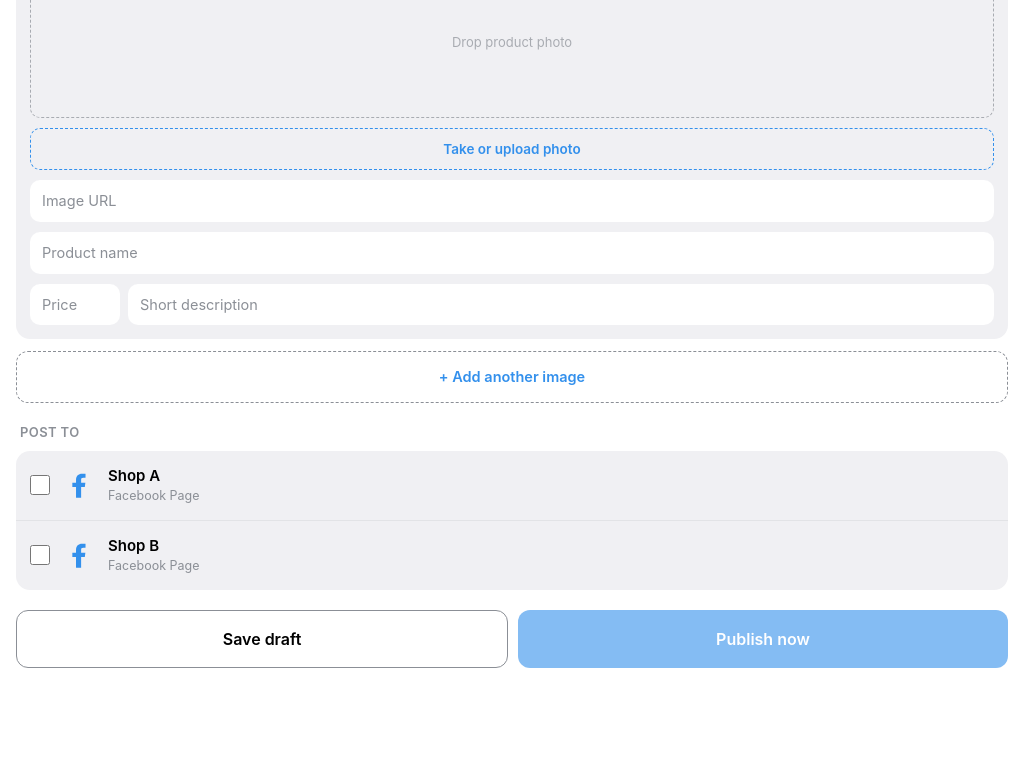
it: PostComposer › lists connected accounts, distinguishing two Facebook Pages by name, and disables Publish until one is picked
This screenshot has width=1024, height=768.
(page scrolled)
Check: the button "Save draft" is shown, box [16,610,508,668]
Check: the text "Shop A" is shown, box [108,466,160,484]
Click the checkbox labelled "Shop A" at coordinates (40, 485), box [30,475,50,495]
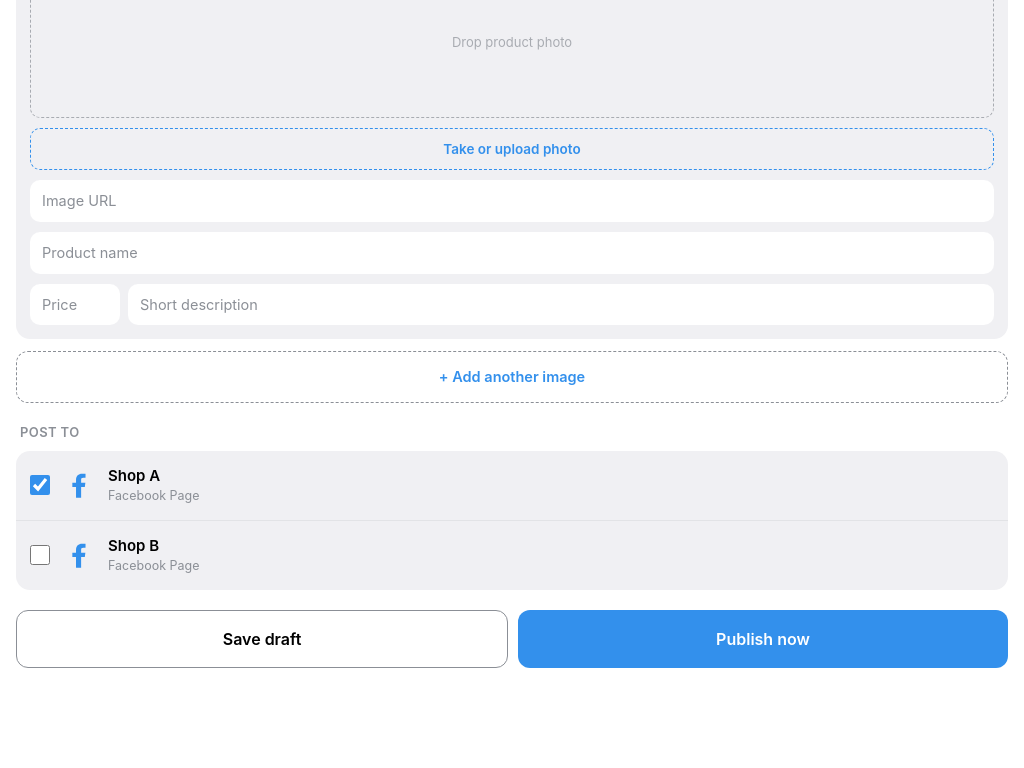
Check: the button "Publish now" is enabled, box [518,610,1008,668]
